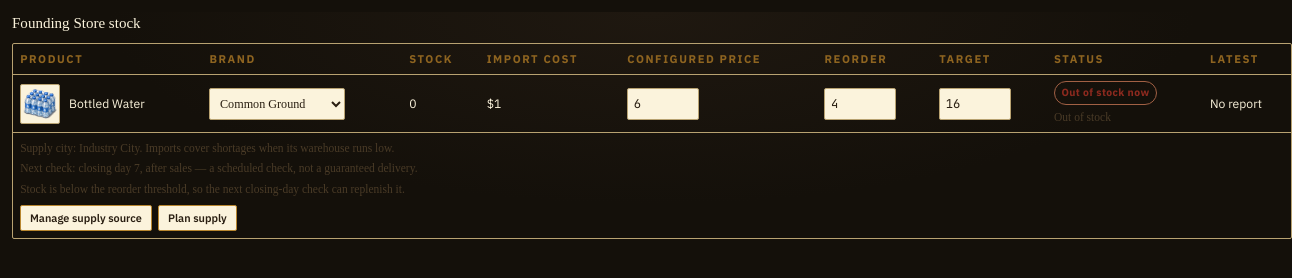
it: StoreStockTable recovery context › never claims success for a failed inventory-update result
The image size is (1292, 278).
Replace the text in the number field named "Reorder threshold for Bottled Water" with "8" at coordinates (860, 104), box top-left (824, 88), bottom-right (896, 120)
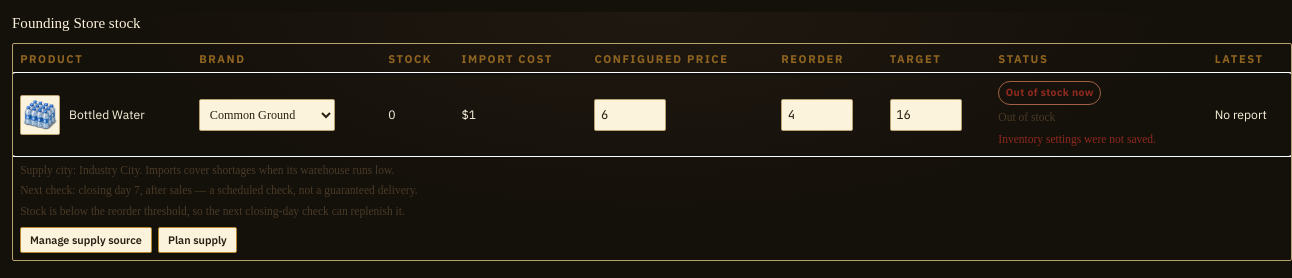
Expected: the message with test id "inventory-status-bottled-water" does not show "Saved:", top-left (998, 133), bottom-right (1156, 145)
Expected: the message with test id "inventory-status-bottled-water" reads "Inventory settings were not saved.", top-left (998, 133), bottom-right (1156, 145)
